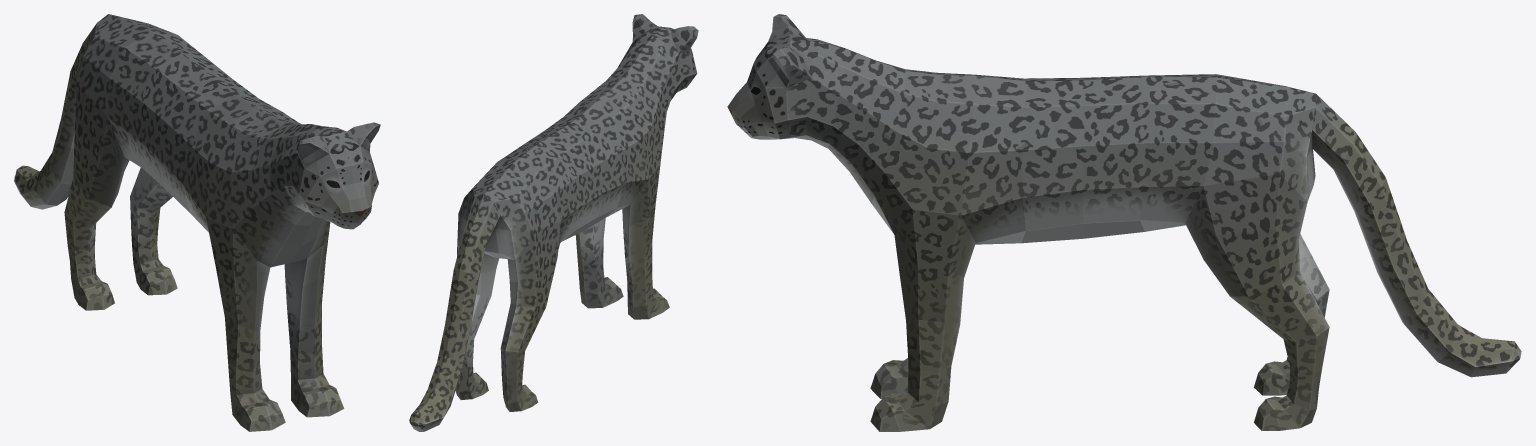
File: snow-leopard.glb
The picture shows the model from 3 angles, left to right: view 1: azimuth 30°, elevation 25°; view 2: azimuth 150°, elevation 25°; view 3: azimuth 270°, elevation 25°; orthographic projection. The views are drawn at different scales.
Parts seen in each view (by area): view 1: Object_2; view 2: Object_2; view 3: Object_2.
Boxes of the visible parts, left/top/right/bottom form: Object_2: left=14, top=14, right=380, bottom=431; Object_2: left=409, top=14, right=698, bottom=431; Object_2: left=727, top=14, right=1521, bottom=431.
Bounding box in the file's own units: 1.69 × 4.67 × 9.04.
Materials: 1 (1 with a texture image).
